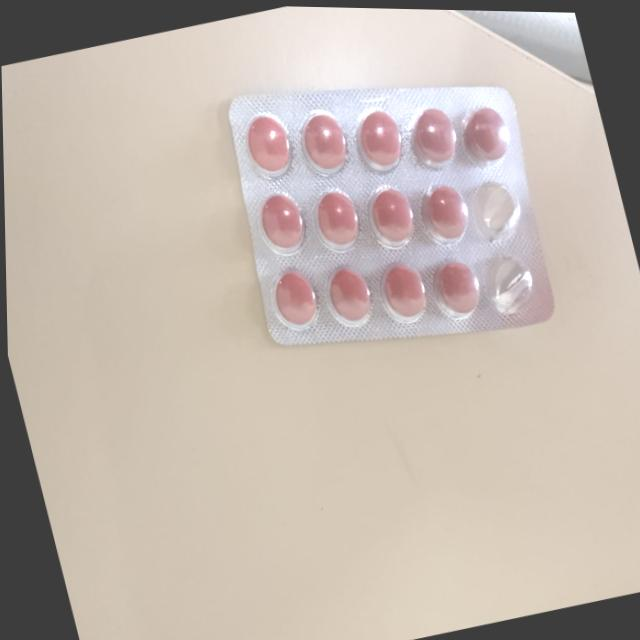medicine: (195, 48, 585, 389)
